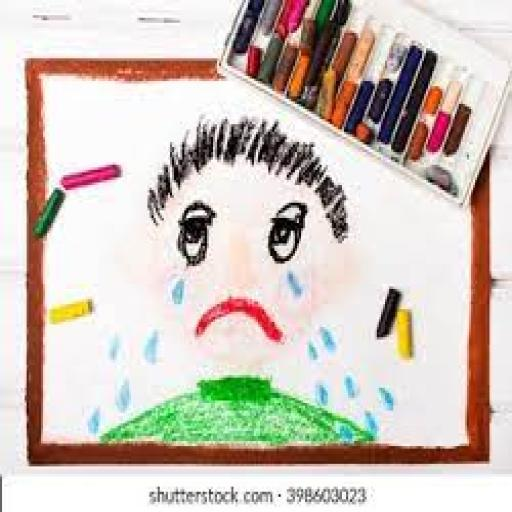person: (89, 101, 379, 447)
